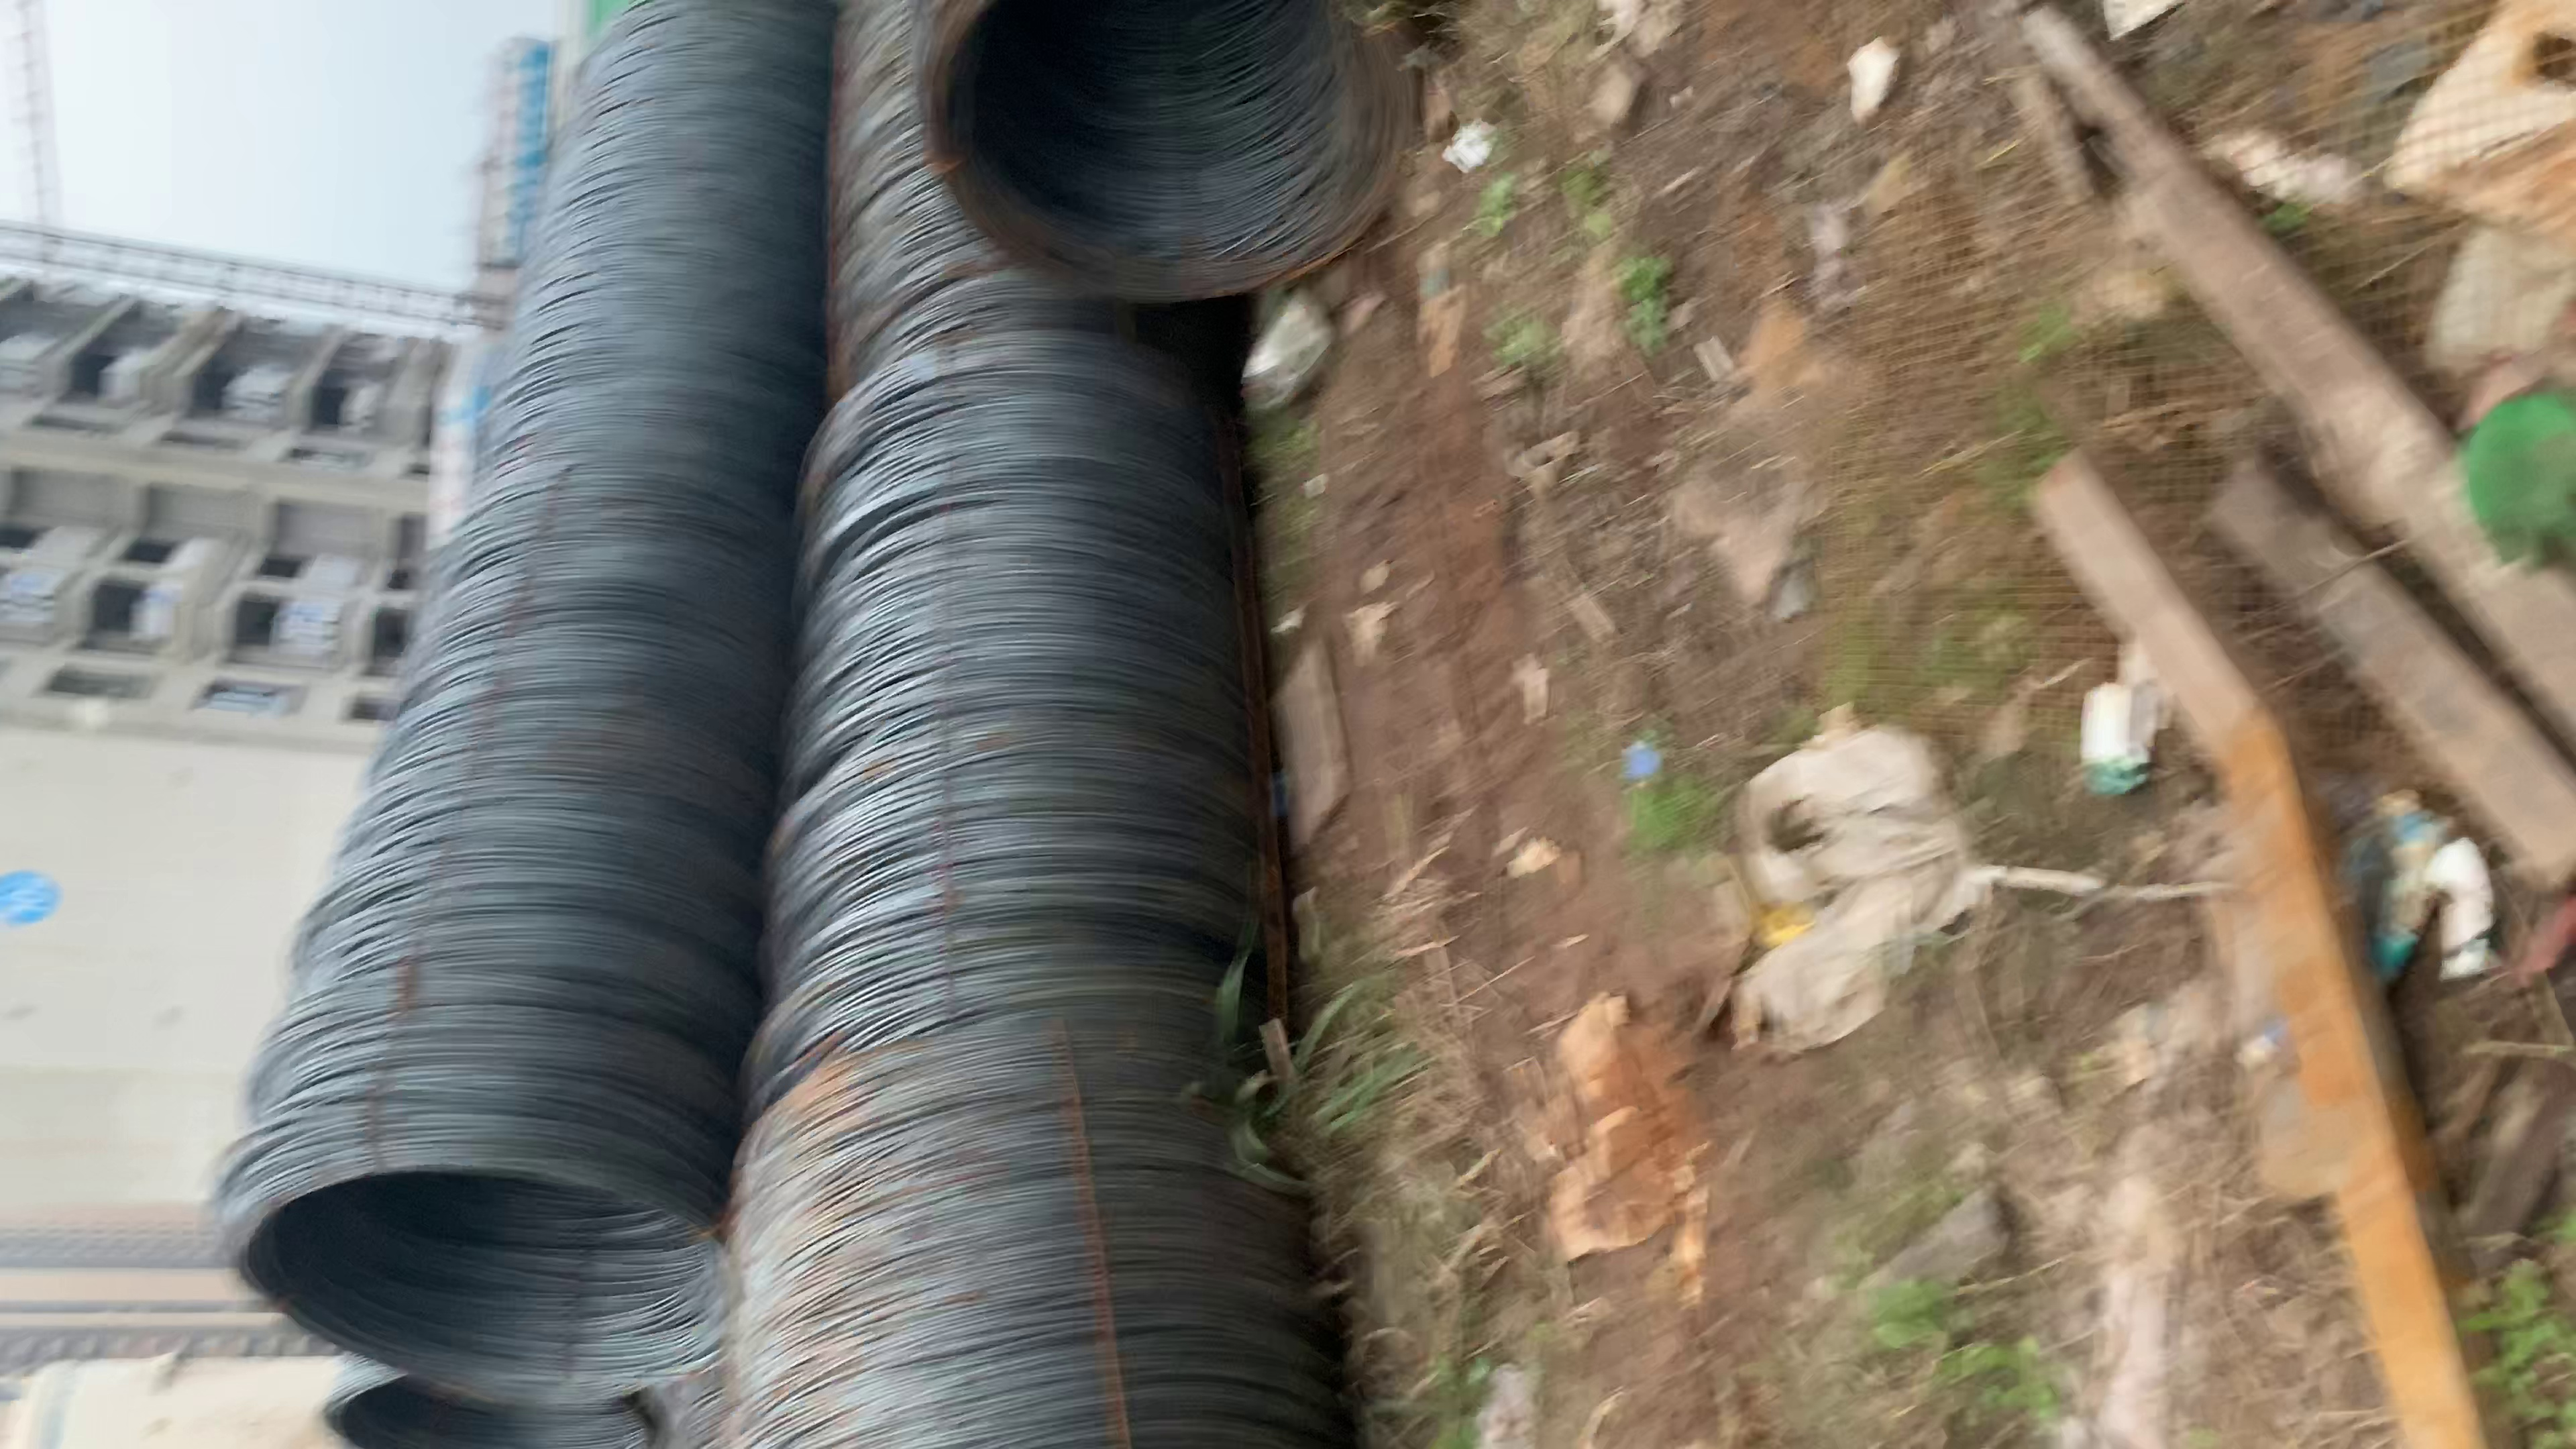coil: (807, 334, 1295, 950), (893, 0, 1392, 311), (241, 1132, 729, 1401), (318, 1375, 662, 1449)
